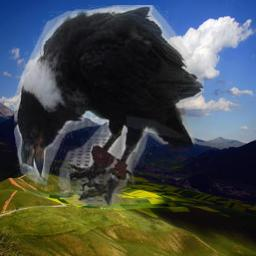Crow: (14, 5, 204, 206)
